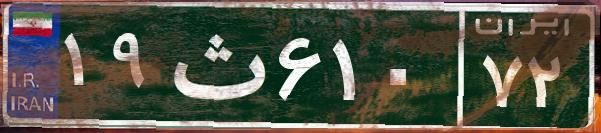0: (385, 28, 445, 110)
1: (330, 28, 385, 110), (57, 26, 110, 107)
2: (525, 38, 570, 115)
6: (273, 28, 330, 110)
7: (475, 38, 525, 113)
9: (110, 28, 158, 105)
ث: (158, 15, 273, 115)
